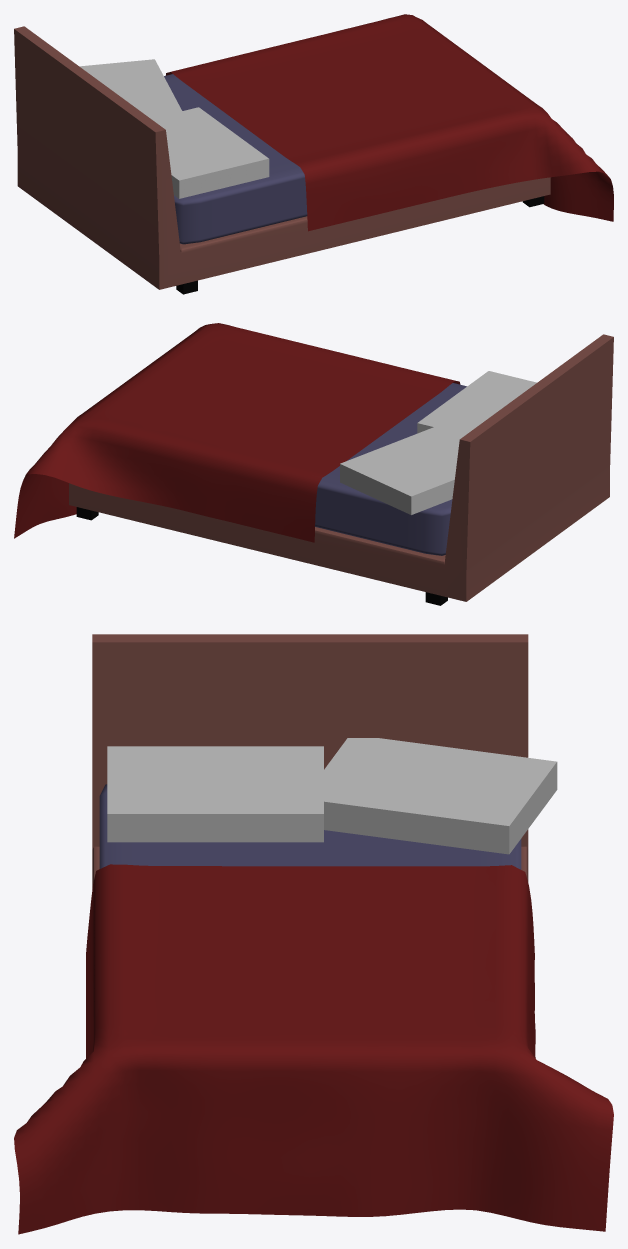
File: Final_bed.fbx
3 views of the same model, one above another, from view 1: azimuth 30°, elevation 25°; view 2: azimuth 150°, elevation 25°; view 3: azimuth 270°, elevation 25° (orthographic). The views are drawn at different scales.
Visible parts, largest first — view 1: pPlane1, pCube1, pCube6, pCube8, pCube9; view 2: pPlane1, pCube1, pCube6, pCube9, pCube8; view 3: pPlane1, pCube1, pCube9, pCube8, pCube6.
Part boxes in pixels (bbox=[...]): pPlane1: bbox=[166, 14, 613, 231]; pCube1: bbox=[14, 26, 550, 289]; pCube6: bbox=[164, 74, 307, 244]; pCube8: bbox=[151, 107, 269, 198]; pCube9: bbox=[79, 59, 183, 118]; pPlane1: bbox=[14, 323, 460, 542]; pCube1: bbox=[69, 334, 613, 601]; pCube6: bbox=[315, 383, 466, 555]; pCube9: bbox=[340, 423, 466, 514]; pCube8: bbox=[417, 371, 536, 434]; pPlane1: bbox=[14, 864, 613, 1234]; pCube1: bbox=[92, 634, 528, 888]; pCube9: bbox=[303, 738, 557, 854]; pCube8: bbox=[107, 746, 323, 842]; pCube6: bbox=[99, 784, 521, 869].
Bounding box in the file's own units: 1552 × 616 × 1203.
